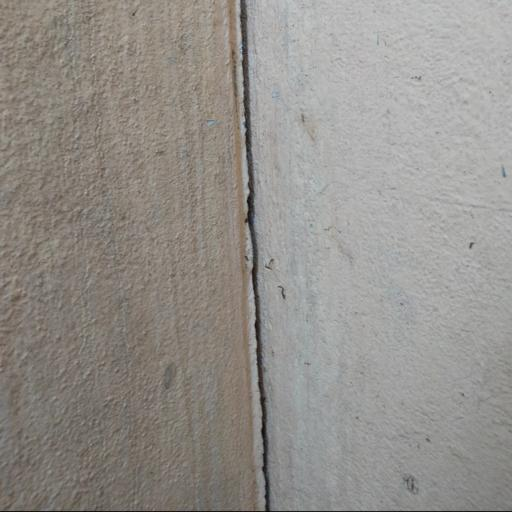major_crack: (216, 0, 294, 512)
